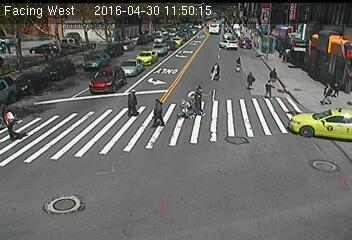neg: (254, 120, 288, 166), (74, 175, 105, 215), (150, 43, 175, 76), (58, 62, 83, 95), (55, 124, 79, 156), (181, 148, 202, 176), (118, 49, 135, 72), (232, 53, 247, 73), (189, 42, 201, 58)
pos: (145, 95, 171, 129), (1, 107, 25, 141), (120, 87, 143, 117), (260, 78, 278, 102), (315, 79, 333, 102), (243, 67, 259, 88), (208, 61, 224, 82)
